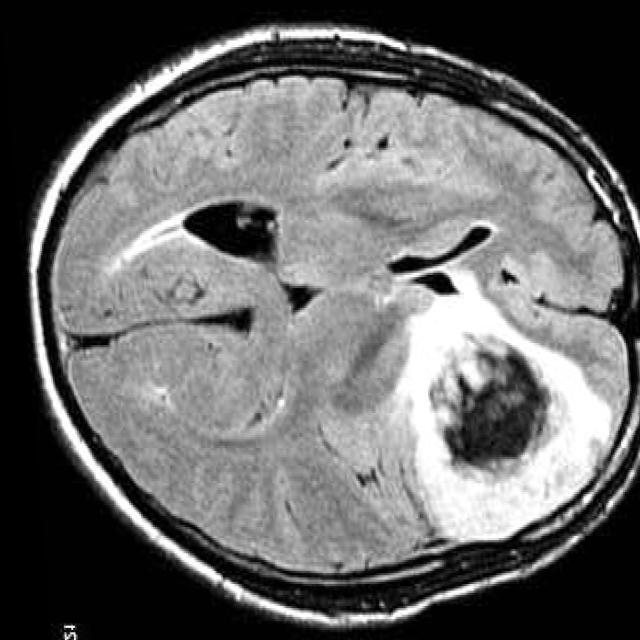Tumor: (420, 333, 553, 480)
